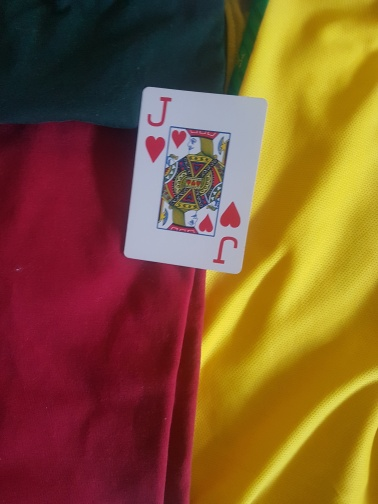jack: (125, 87, 270, 273)
